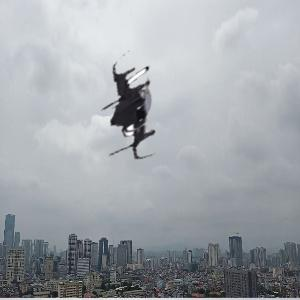drone: (77, 54, 188, 165)
